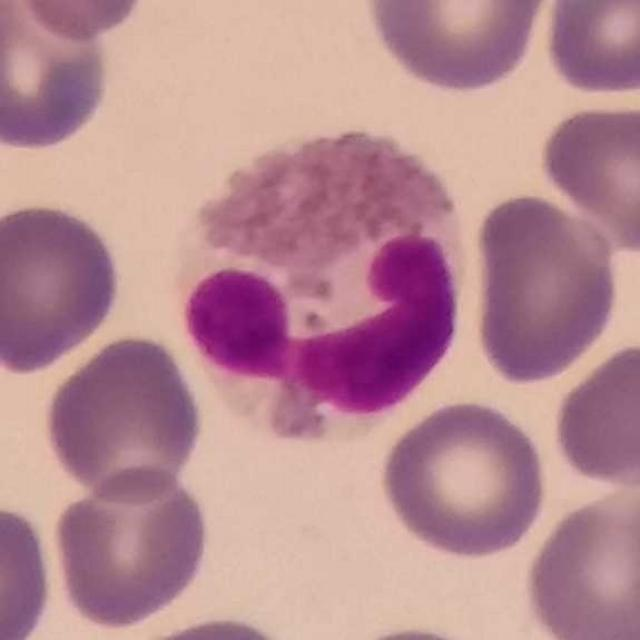Eosinophil: (163, 115, 485, 452)
RBC: (468, 190, 624, 388), (375, 394, 551, 562), (39, 331, 207, 503), (48, 462, 215, 632), (0, 197, 127, 376), (520, 481, 640, 640), (361, 0, 554, 96), (0, 7, 116, 160), (536, 97, 640, 256), (548, 334, 640, 495), (538, 0, 640, 100), (0, 500, 57, 640), (5, 0, 154, 45), (113, 610, 310, 640), (330, 620, 511, 640)
